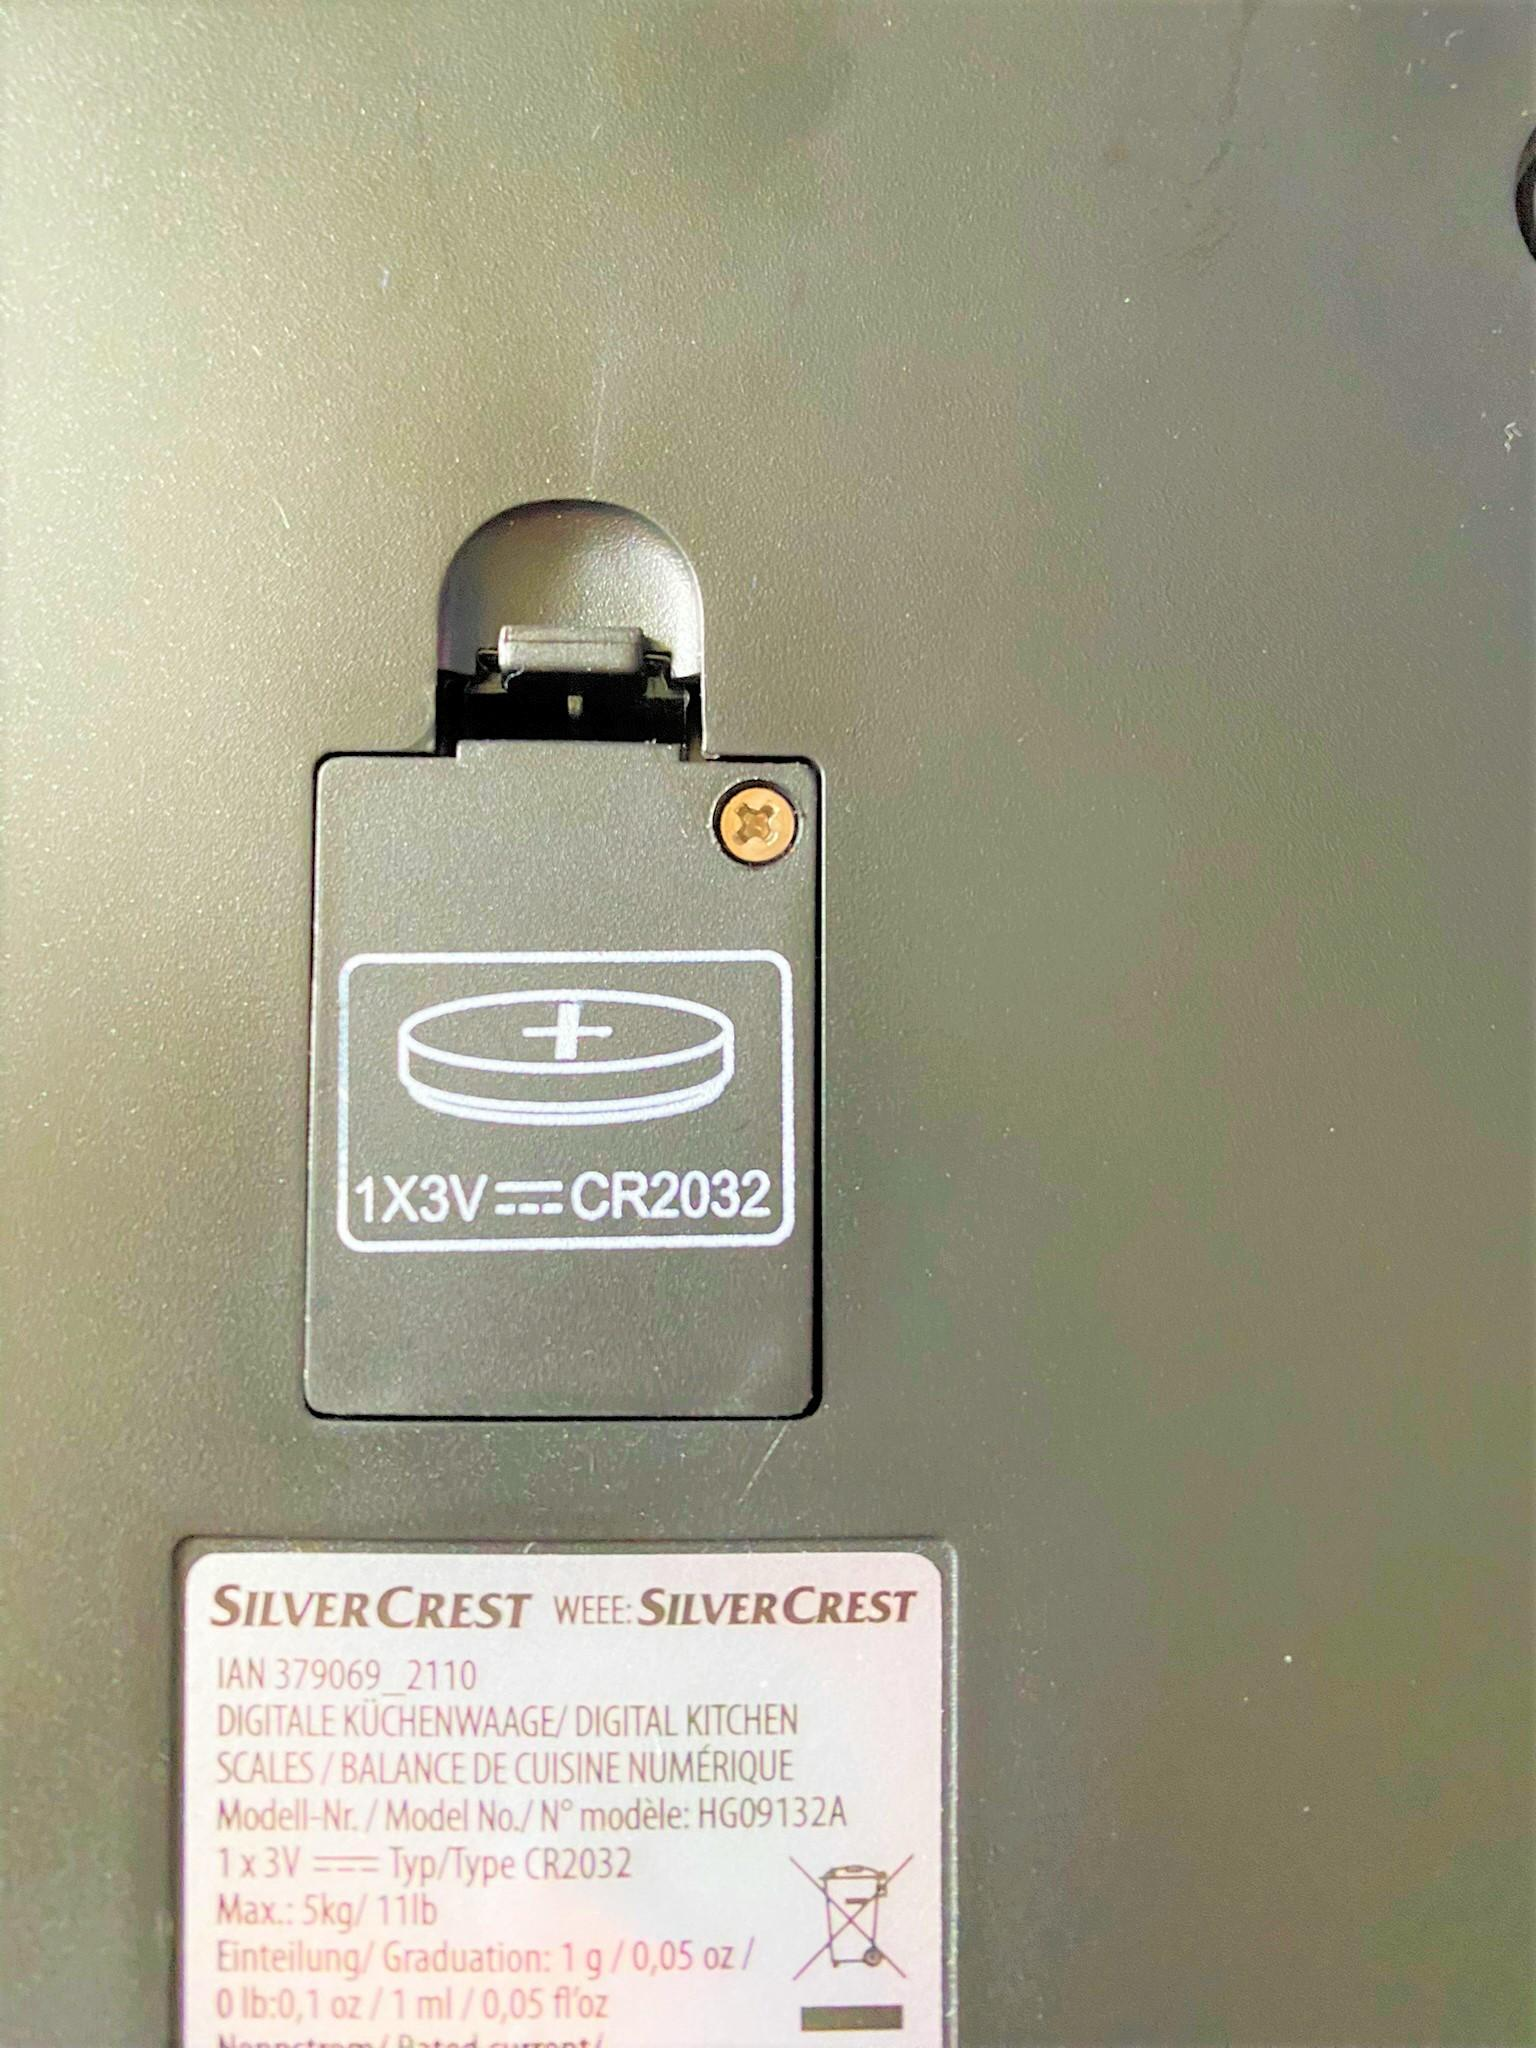PH: (715, 782, 802, 871)
